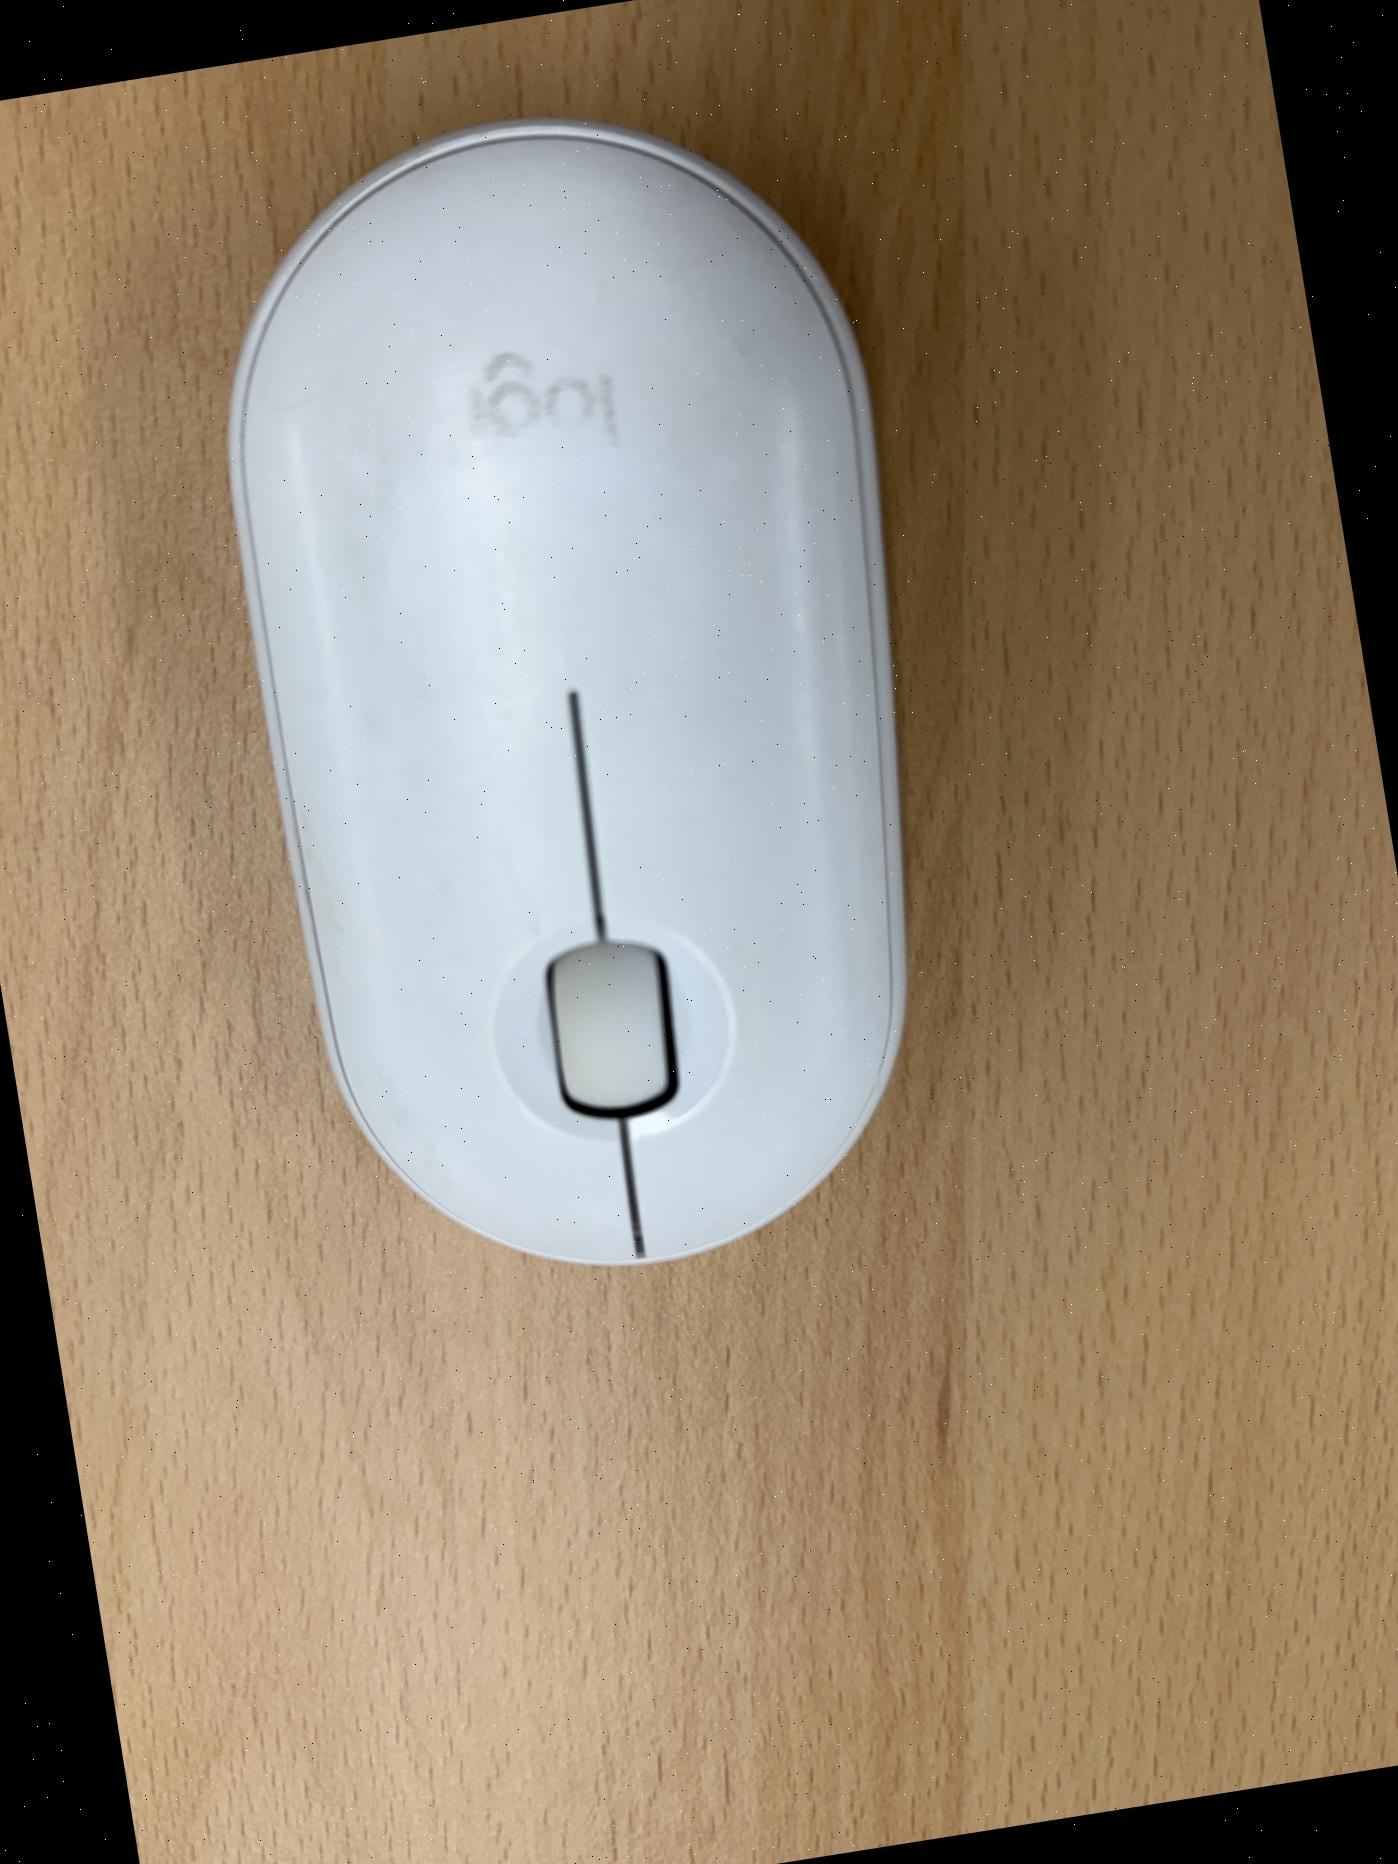front: (172, 65, 1003, 1319)
